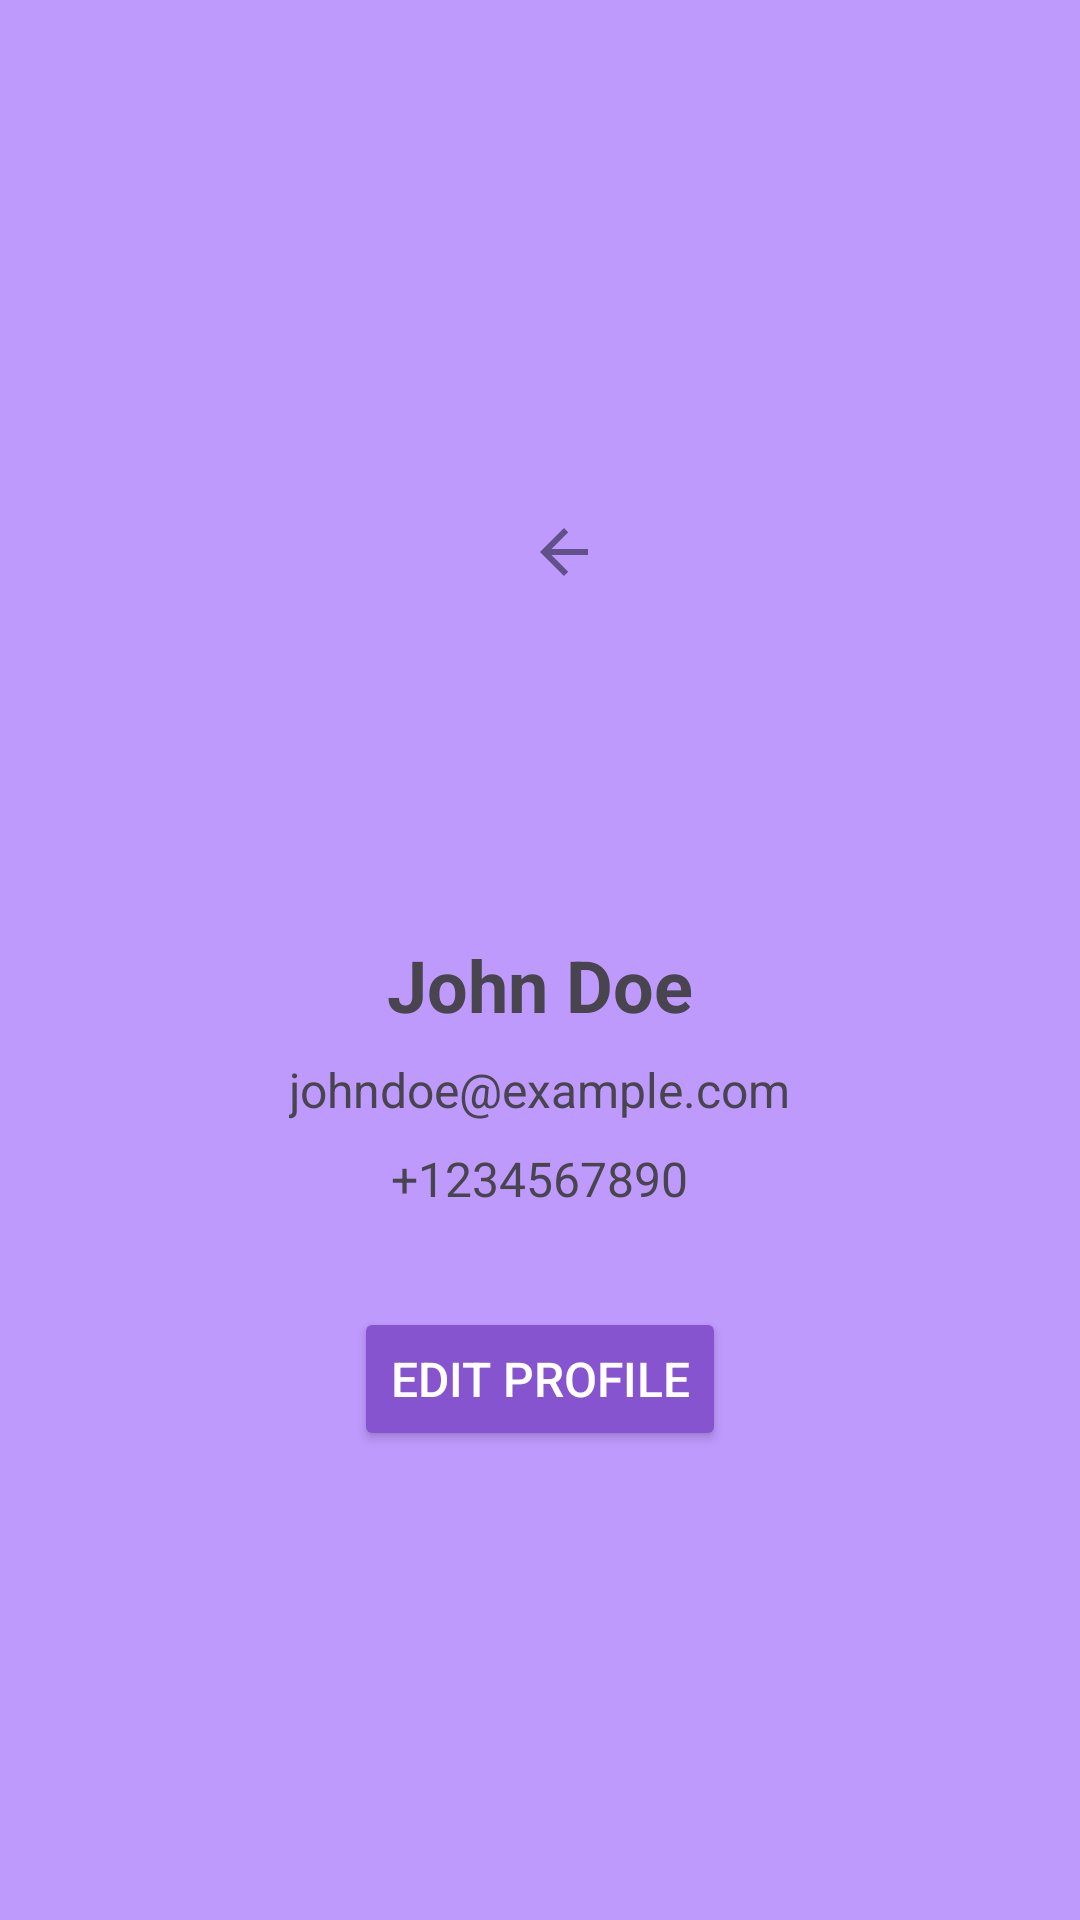

Where icons sit on this 1080*1920 app screen, as (x1, y1, x2, y2):
Back: (540, 528, 588, 576)
